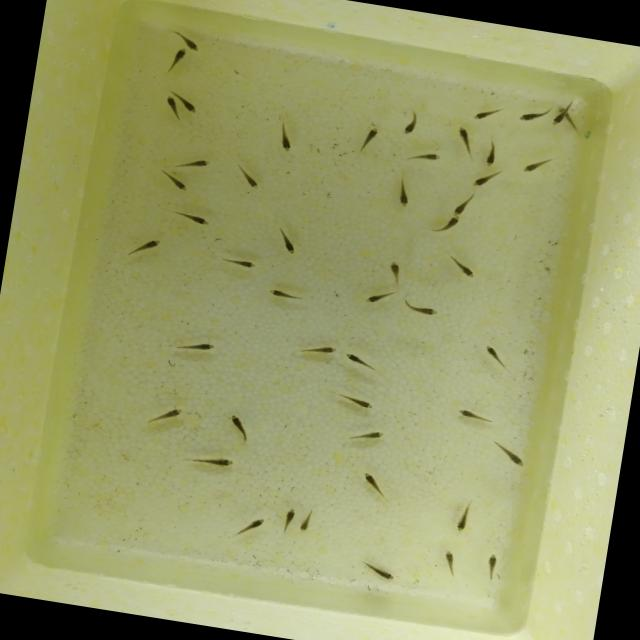fingerling: (442, 120, 483, 152), (146, 402, 192, 430), (401, 300, 452, 322), (447, 256, 483, 287), (360, 560, 402, 586), (192, 450, 236, 474), (354, 425, 395, 450), (433, 544, 467, 574), (450, 502, 477, 538), (254, 283, 304, 302), (494, 443, 530, 469), (342, 390, 378, 415), (433, 213, 466, 240), (217, 255, 266, 273), (468, 168, 501, 194), (181, 152, 216, 176), (407, 149, 451, 168), (358, 288, 399, 308), (160, 172, 194, 196), (517, 153, 548, 179), (358, 467, 386, 495), (445, 197, 480, 219), (236, 169, 264, 196), (226, 412, 255, 438), (398, 111, 426, 137), (160, 90, 182, 123), (132, 235, 168, 255), (183, 209, 217, 230), (478, 552, 505, 578), (358, 125, 384, 152), (274, 130, 300, 155), (482, 341, 506, 368), (280, 230, 301, 260), (167, 46, 192, 71), (393, 181, 414, 210), (296, 506, 316, 536), (481, 142, 502, 170), (237, 515, 266, 535), (181, 339, 219, 354), (452, 408, 492, 422), (281, 504, 299, 534), (342, 352, 374, 368), (304, 342, 338, 357), (386, 258, 406, 282), (516, 108, 544, 125), (179, 36, 205, 53), (548, 110, 568, 132), (468, 108, 497, 122), (178, 99, 202, 115)
